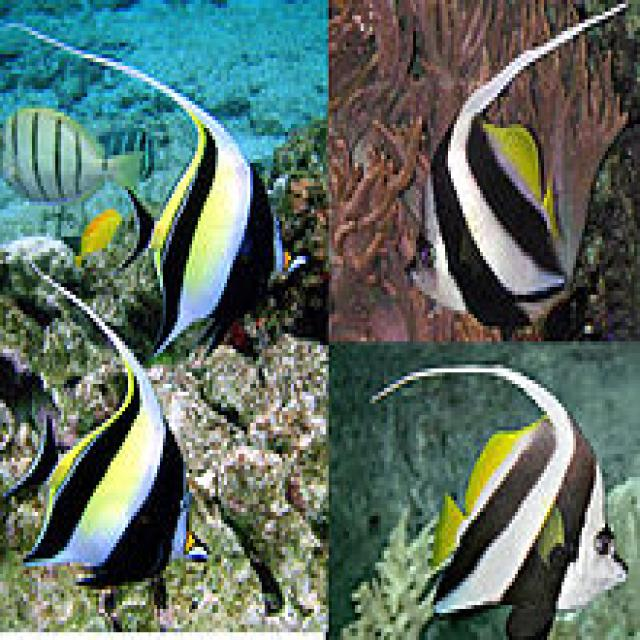MorishIdol: (9, 19, 310, 358), (398, 0, 628, 330), (366, 357, 628, 636), (3, 252, 212, 591)
